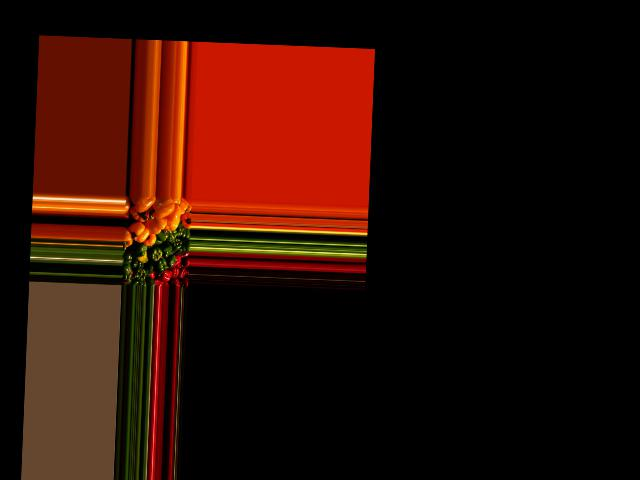bell_pepper: (120, 268, 132, 285)
